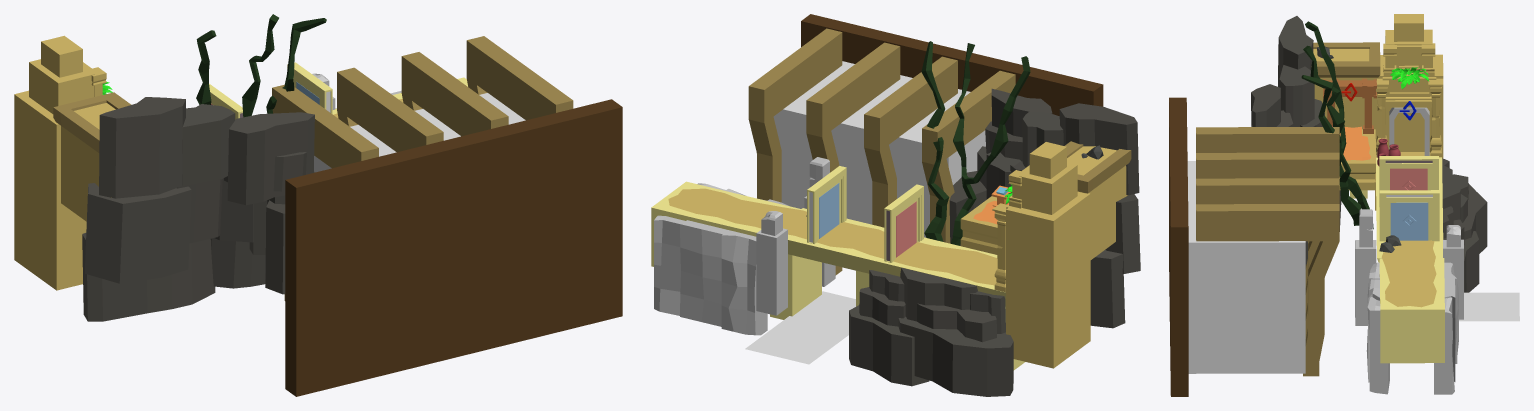
The model's file is stage.fbx.
The picture shows the model from 3 angles, left to right: view 1: azimuth 30°, elevation 25°; view 2: azimuth 150°, elevation 25°; view 3: azimuth 270°, elevation 25°; orthographic projection. The views are drawn at different scales.
Parts seen in each view (by area): view 1: Cube.004, upper cliff, Cube.003, templeEntrace, Futurehouseframe, Cube.008, r, watercube, Cube.007, Doorframe; view 2: Cube.003, templeEntrace, lower cliff, upper cliff, cliff front, watercube, Cube.004, Plane, Base Floor, River, Cube.002, Futurehouseframe (+10 smaller); view 3: Cube.003, watercube, templeEntrace, Cube.004, upper cliff, Start floor, lower cliff, Plane, cliff front, cliff back, Cube.006, Futurehouseframe (+15 smaller).
Part boxes in pixels (left/top/right/bottom): Cube.004: left=285, top=99, right=622, bottom=396; upper cliff: left=82, top=97, right=315, bottom=321; Cube.003: left=272, top=36, right=573, bottom=300; templeEntrace: left=14, top=35, right=106, bottom=290; Futurehouseframe: left=61, top=103, right=115, bottom=221; Cube.008: left=196, top=14, right=278, bottom=117; r: left=53, top=92, right=131, bottom=152; watercube: left=314, top=93, right=525, bottom=172; Cube.007: left=266, top=18, right=326, bottom=113; Doorframe: left=287, top=62, right=332, bottom=113; Cube.003: left=748, top=28, right=1015, bottom=275; templeEntrace: left=992, top=142, right=1090, bottom=368; lower cliff: left=849, top=267, right=1013, bottom=396; upper cliff: left=949, top=88, right=1140, bottom=328; cliff front: left=654, top=215, right=767, bottom=335; watercube: left=773, top=61, right=985, bottom=270; Cube.004: left=801, top=14, right=1103, bottom=115; Plane: left=668, top=188, right=997, bottom=285; Base Floor: left=770, top=208, right=1024, bottom=370; River: left=745, top=291, right=855, bottom=364; Cube.002: left=756, top=211, right=787, bottom=315; Futurehouseframe: left=1067, top=146, right=1127, bottom=259; Cube.003: left=1196, top=127, right=1339, bottom=376; watercube: left=1187, top=161, right=1305, bottom=373; templeEntrace: left=1375, top=14, right=1443, bottom=210; Cube.004: left=1169, top=97, right=1188, bottom=396; upper cliff: left=1251, top=16, right=1341, bottom=264; Start floor: left=1379, top=258, right=1444, bottom=363; lower cliff: left=1442, top=158, right=1487, bottom=292; Plane: left=1381, top=152, right=1436, bottom=307; cliff front: left=1434, top=262, right=1458, bottom=394; cliff back: left=1366, top=262, right=1389, bottom=394; Cube.006: left=1355, top=209, right=1376, bottom=325; Futurehouseframe: left=1313, top=49, right=1376, bottom=140.
Size of the model in its own units: 4930 by 3077 by 3971.
